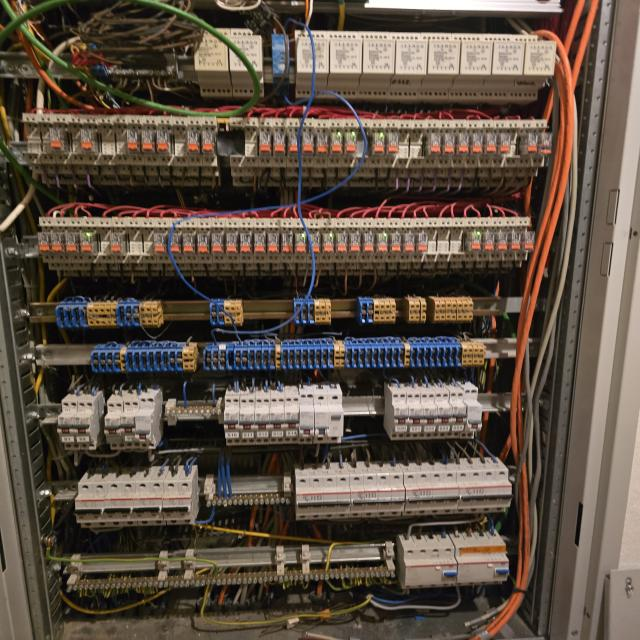Dimmer: (477, 33, 525, 100), (508, 34, 556, 99), (448, 33, 494, 99), (418, 32, 461, 99), (387, 32, 428, 100), (192, 26, 230, 98), (357, 30, 396, 99), (326, 30, 362, 100), (230, 26, 264, 100), (295, 29, 329, 99), (269, 33, 290, 81)
FI: (451, 545, 510, 588), (402, 547, 459, 589), (459, 388, 483, 439), (134, 396, 155, 449)
FI_Sicherungskombi: (313, 392, 343, 444)
Relais: (48, 127, 68, 151), (79, 128, 97, 152), (201, 130, 214, 156), (186, 130, 200, 154), (126, 129, 140, 152), (156, 130, 170, 153), (456, 133, 470, 156), (110, 233, 125, 253), (80, 232, 94, 253), (344, 131, 356, 155), (472, 132, 484, 156), (141, 130, 154, 152), (387, 133, 399, 156), (524, 133, 537, 154), (197, 233, 210, 254), (522, 231, 535, 252), (274, 132, 286, 154), (288, 132, 300, 154), (302, 132, 314, 154), (372, 134, 384, 156), (428, 134, 440, 156), (443, 134, 455, 156), (486, 132, 497, 156), (539, 132, 551, 154), (267, 232, 279, 254), (37, 232, 50, 252), (64, 232, 77, 252), (153, 234, 166, 254), (182, 234, 195, 254), (469, 231, 482, 251), (331, 132, 342, 155), (168, 233, 180, 254), (226, 233, 238, 254), (322, 232, 333, 254), (51, 232, 63, 252), (240, 233, 252, 253), (282, 233, 294, 253), (308, 233, 320, 253), (349, 233, 361, 253), (416, 232, 428, 252), (482, 231, 494, 251), (496, 232, 508, 252), (254, 233, 265, 254), (403, 232, 414, 253), (260, 132, 270, 155), (500, 133, 510, 156), (318, 133, 328, 155), (212, 234, 223, 254), (510, 231, 521, 251), (296, 233, 306, 254), (363, 233, 374, 252), (377, 233, 388, 252), (390, 233, 401, 252), (336, 234, 347, 252)
Schaltkasten: (0, 0, 640, 640)
Sicherungen_230V: (103, 481, 138, 527), (75, 482, 109, 527), (133, 481, 167, 526), (161, 480, 194, 526), (57, 401, 80, 450), (74, 400, 96, 450), (104, 401, 126, 449), (445, 391, 467, 439), (432, 392, 453, 439), (418, 392, 438, 440), (297, 392, 315, 444), (121, 400, 140, 449), (390, 391, 409, 440), (404, 392, 423, 440), (223, 396, 241, 445), (239, 396, 256, 445), (254, 396, 270, 445), (269, 395, 285, 444), (283, 396, 299, 444)
Sicherungen_400V: (453, 471, 486, 514), (427, 471, 459, 515), (479, 469, 511, 513), (348, 473, 379, 518), (401, 472, 432, 516), (375, 473, 405, 517), (295, 476, 324, 520), (322, 475, 351, 519)
Verbinder: (203, 339, 485, 370), (92, 344, 197, 373), (55, 301, 163, 327), (429, 296, 473, 323), (355, 296, 395, 323), (293, 297, 331, 325), (209, 298, 242, 328), (404, 298, 427, 324)
